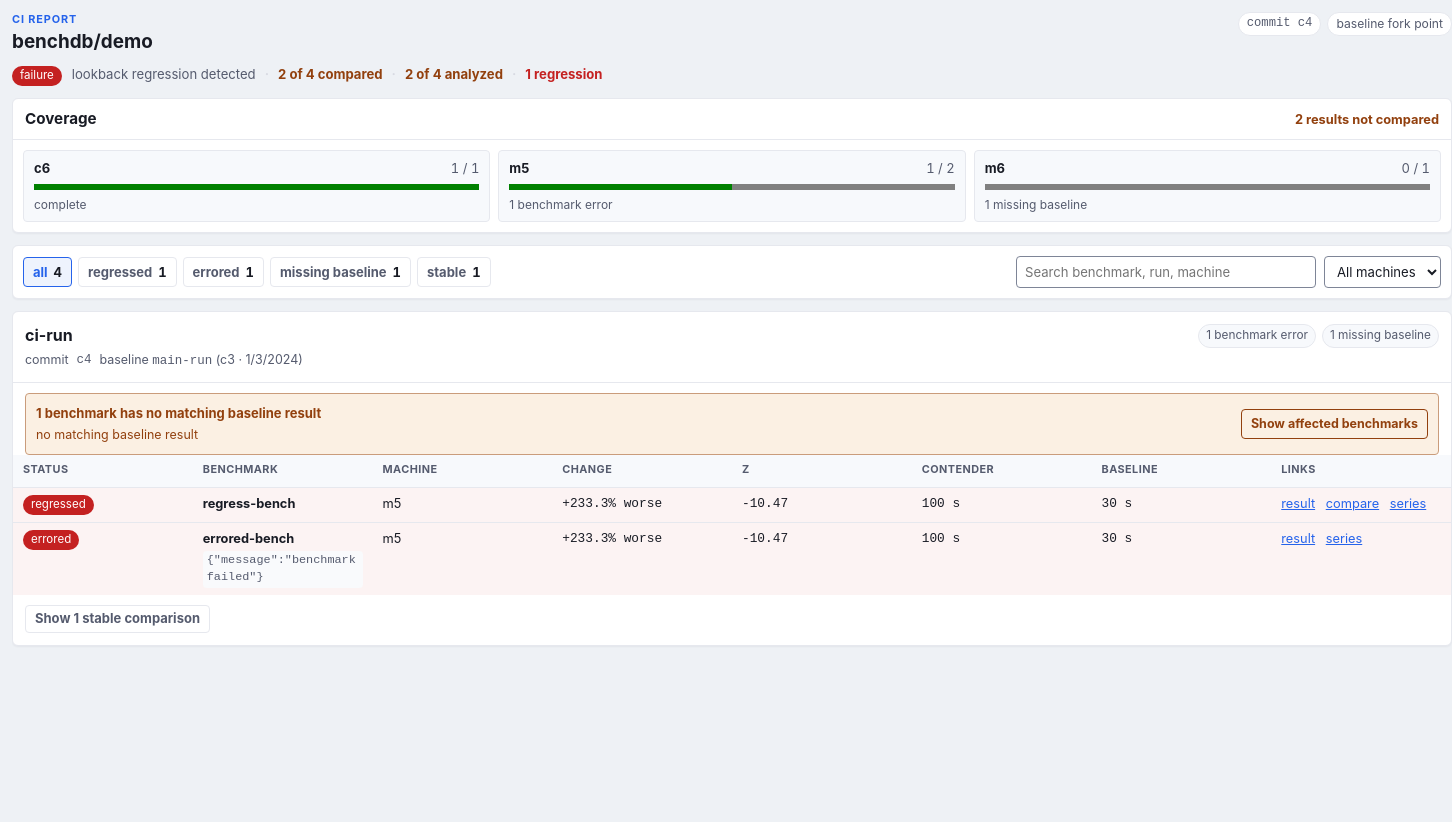
CIReportPage › filters comparisons by status, machine, and search text
Click the button "errored 1" at (223, 272), box [183,257,264,287]
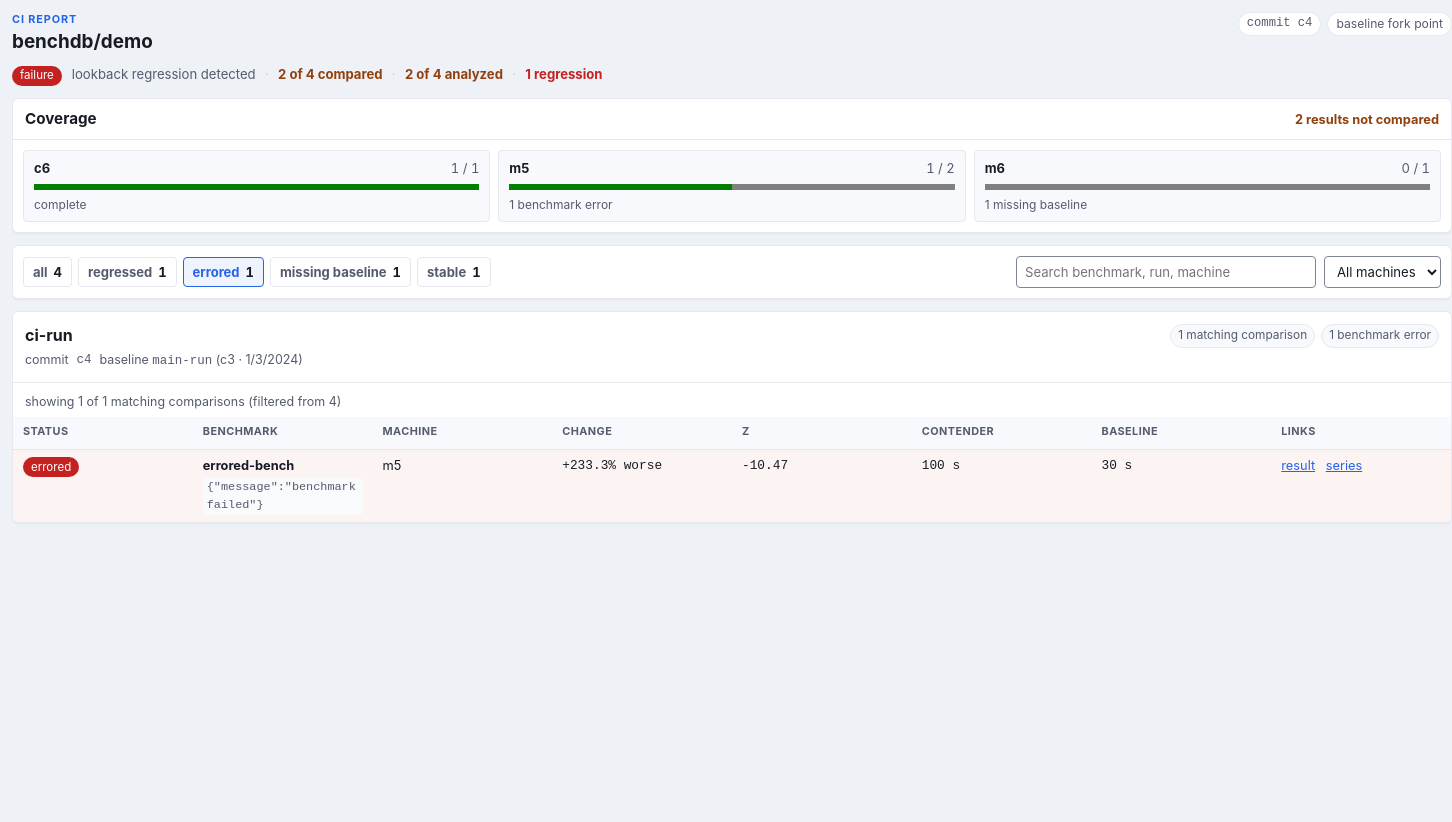
Check: the text "stable-bench" is not shown
Check: the text "errored-bench" is shown, box [203,458,294,473]
Check: the text "regress-bench" is gone
Click the button "all 4" at (48, 272), box [23,257,72,287]
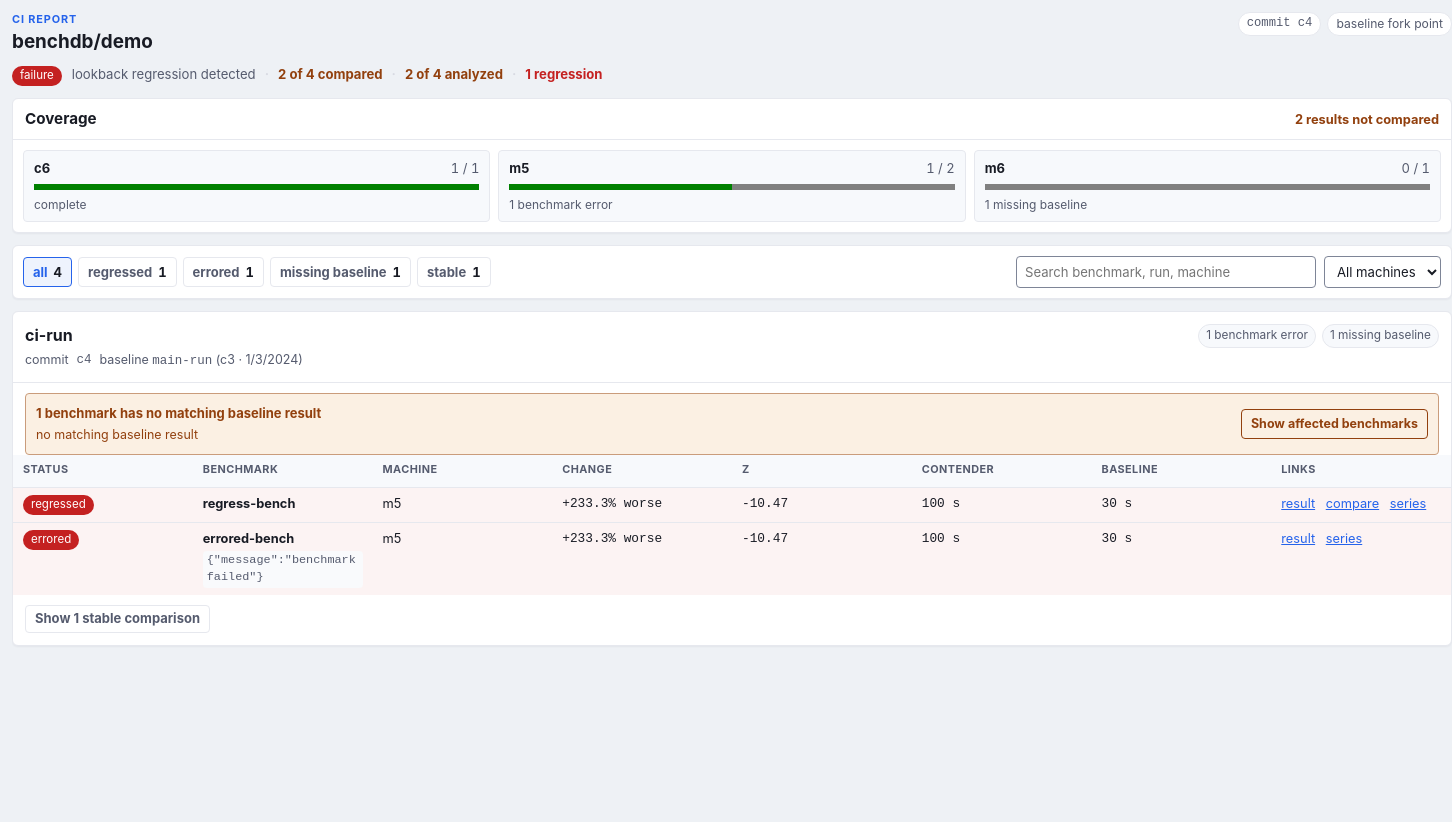
Select "m6" in the dropdown named "machine" at (1382, 272), box [1324,256,1441,288]
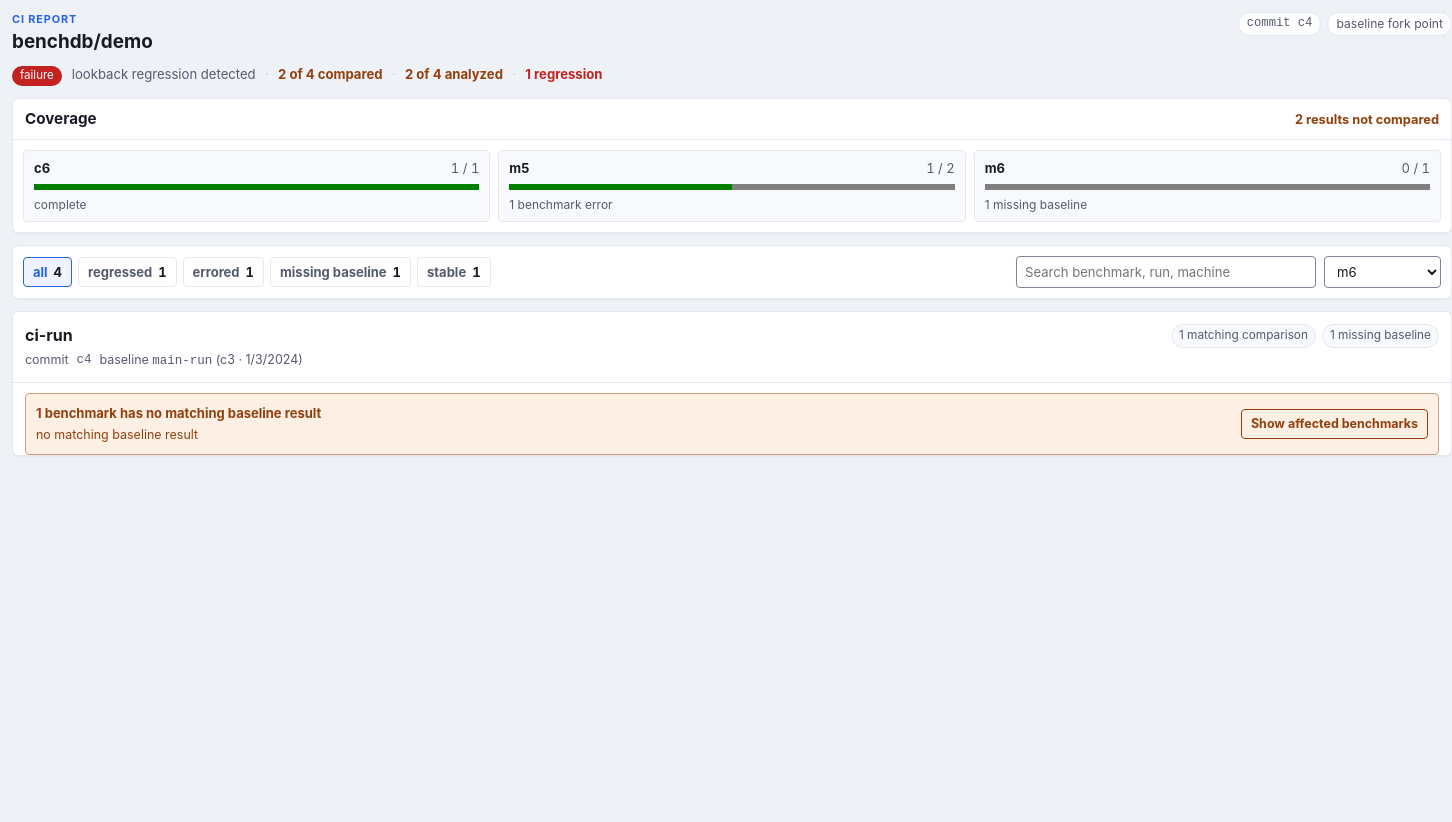
Check: the text "missing-bench" is not shown
Check: the element named "missing baseline coverage for ci-run" is shown, box [25,393,1439,455]
Check: the text "errored-bench" is gone
Click the button "missing baseline 1" at (340, 272), box [270,257,411,287]
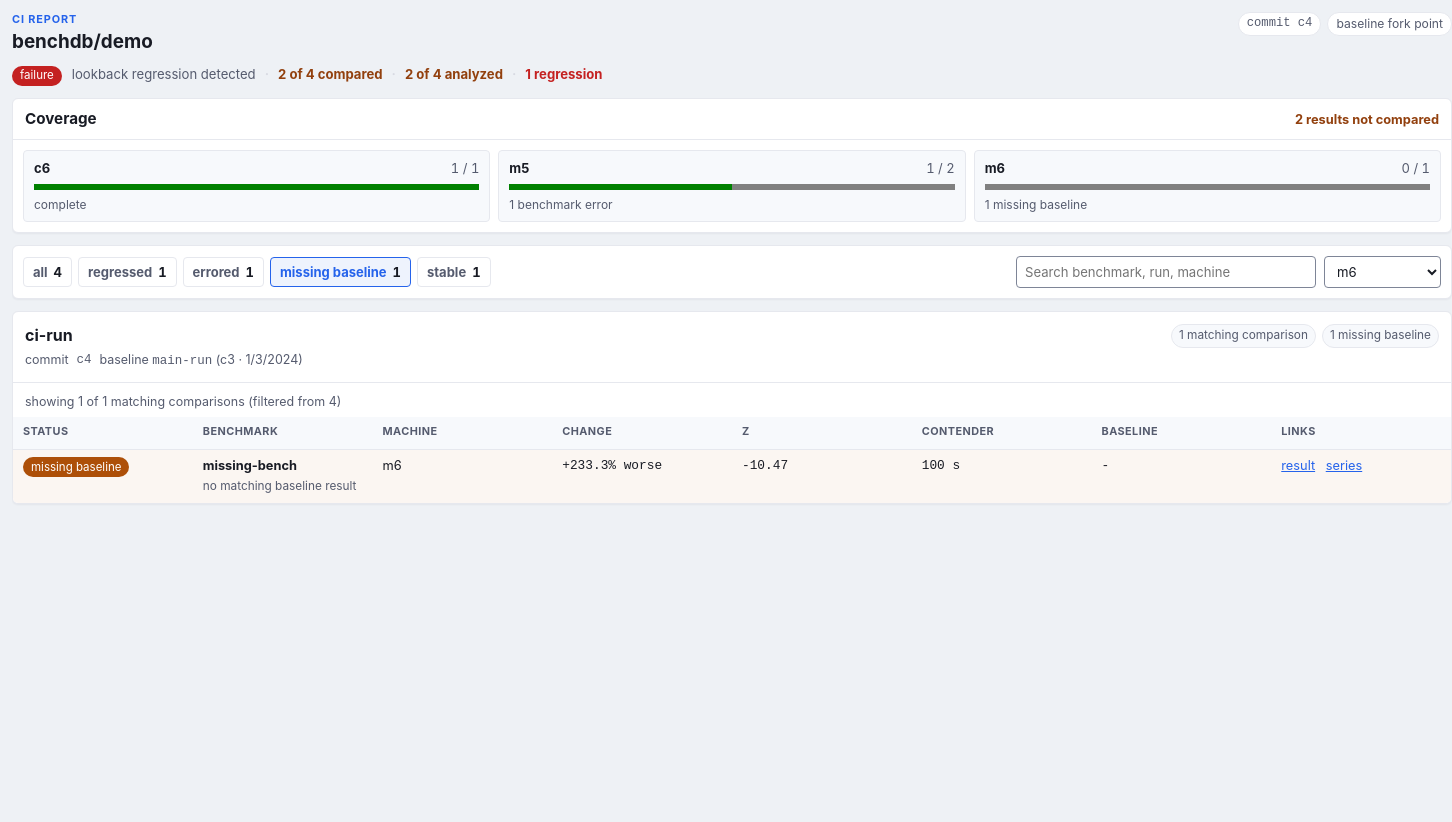
Check: the text "missing-bench" is shown, box [203,458,297,473]
Select "All machines" in the dropdown named "machine" at (1382, 272), box [1324,256,1441,288]
Click the button "all 4" at (48, 272), box [23,257,72,287]
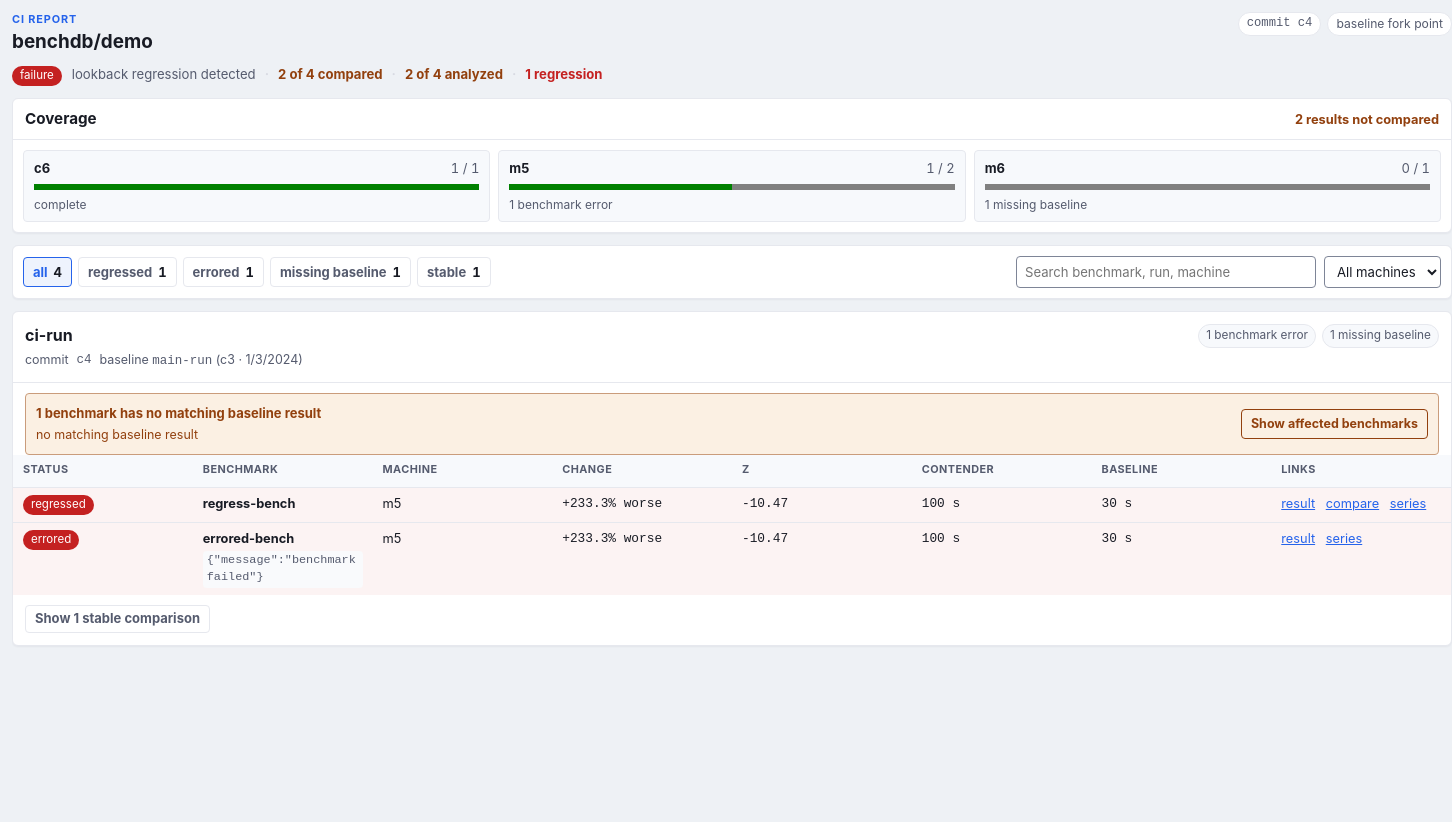
Type "stable" into the search field named "search comparisons" at (1166, 272), box [1016,256,1316,288]
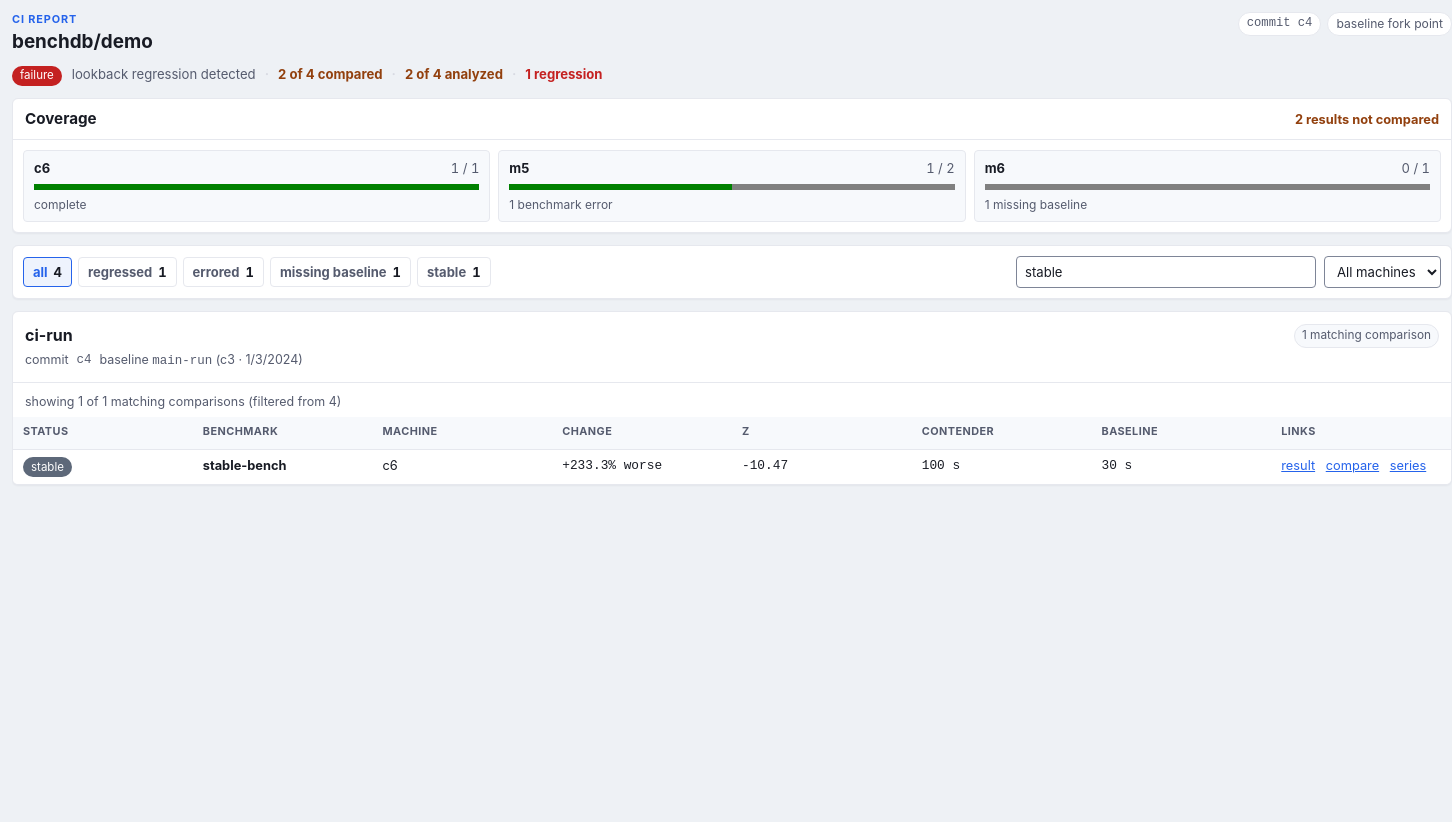
Check: the text "missing-bench" is not shown
Check: the text "stable-bench" is shown, box [203,458,286,473]
